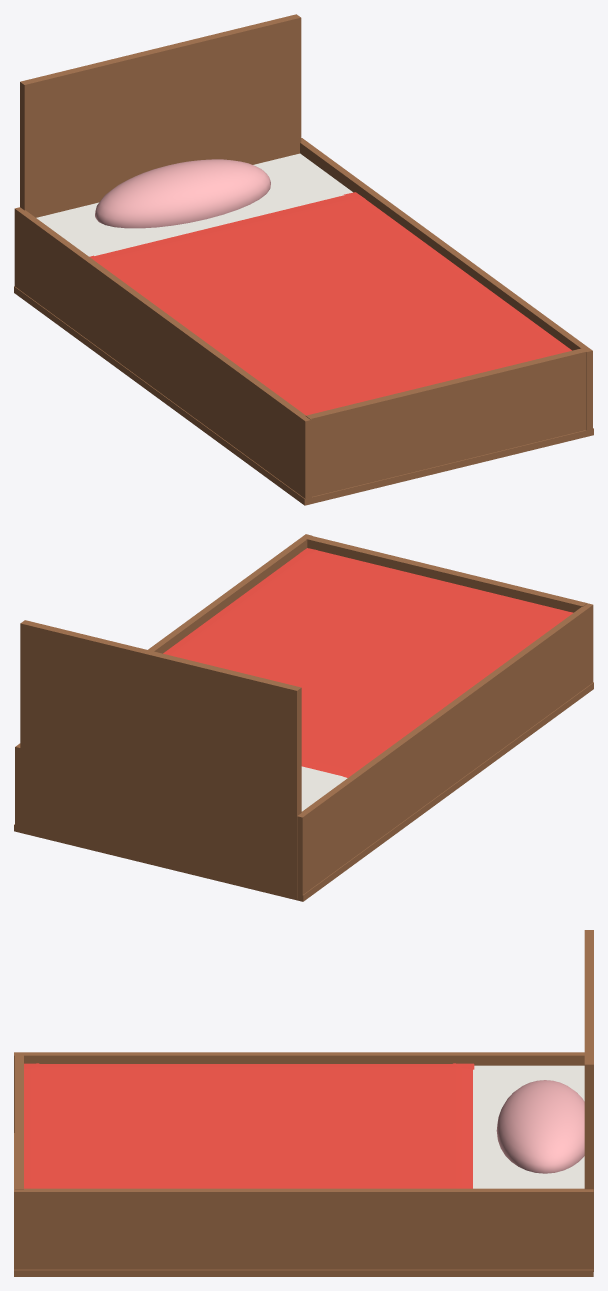
File: łużko.fbx
3 views of the same model, one above another, from view 1: azimuth 30°, elevation 25°; view 2: azimuth 150°, elevation 25°; view 3: azimuth 270°, elevation 25° (orthographic).
Visible parts, largest first — view 1: Cube.006, Cube.005, Cube.003, Cube.004, Sphere, Cube, Cube.002, Cube.001; view 2: Cube.005, Cube.006, Cube.003, Cube.004, Cube.001, Cube.002, Cube; view 3: Cube.006, Cube.002, Cube, Cube.003, Sphere, Cube.001, Cube.005, Cube.004.
Boxes of the visible parts, x1=… form: Cube.006: x1=89, y1=192, x2=571, y2=415; Cube.005: x1=20, y1=14, x2=301, y2=217; Cube.003: x1=14, y1=207, x2=311, y2=498; Cube.004: x1=306, y1=348, x2=586, y2=496; Sphere: x1=95, y1=159, x2=270, y2=228; Cube: x1=36, y1=153, x2=352, y2=256; Cube.002: x1=300, y1=138, x2=592, y2=430; Cube.001: x1=14, y1=286, x2=593, y2=505; Cube.005: x1=20, y1=620, x2=301, y2=898; Cube.006: x1=163, y1=548, x2=573, y2=777; Cube.003: x1=297, y1=603, x2=593, y2=895; Cube.004: x1=306, y1=535, x2=587, y2=612; Cube.001: x1=14, y1=682, x2=593, y2=901; Cube.002: x1=15, y1=534, x2=311, y2=826; Cube: x1=301, y1=766, x2=347, y2=811; Cube.006: x1=24, y1=1063, x2=474, y2=1188; Cube.002: x1=14, y1=1188, x2=593, y2=1269; Cube: x1=473, y1=1065, x2=584, y2=1188; Cube.003: x1=14, y1=1052, x2=584, y2=1132; Sphere: x1=496, y1=1080, x2=584, y2=1173; Cube.001: x1=14, y1=1133, x2=593, y2=1276; Cube.005: x1=584, y1=930, x2=593, y2=1271; Cube.004: x1=15, y1=1054, x2=23, y2=1189.
Size of the model in its own units: 286 by 198 by 498.
